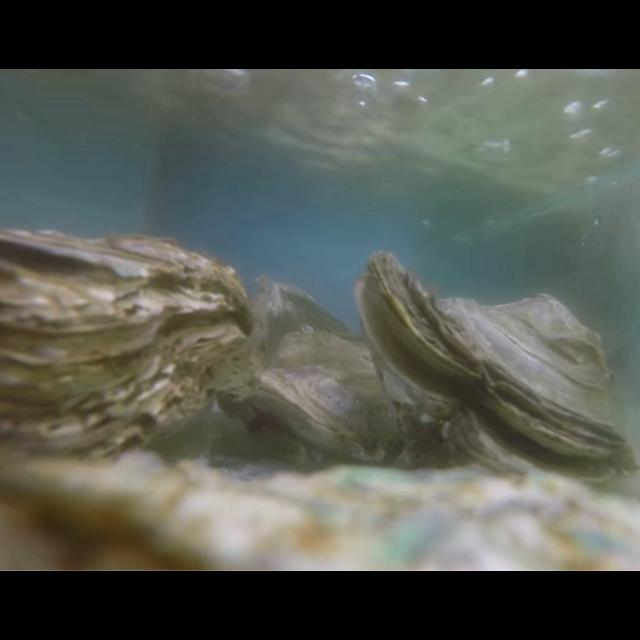Oyster-Closed: (0, 228, 256, 484), (256, 332, 414, 472)
Oyster-Indeterminate: (0, 452, 640, 572), (254, 270, 370, 360)
Oyster-Open: (356, 254, 640, 498)
